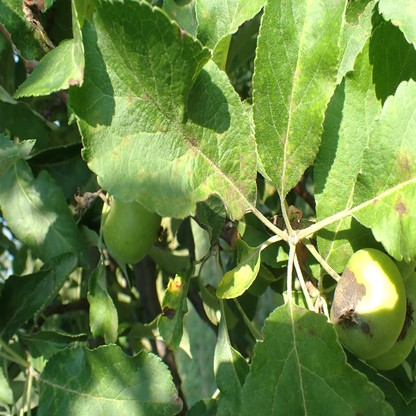frogeye_leaf_spot: (162, 305, 176, 320)
scab: (89, 93, 256, 215), (281, 70, 301, 184), (392, 147, 416, 183), (294, 305, 317, 335), (393, 194, 410, 217), (69, 65, 84, 86), (338, 247, 352, 257), (375, 176, 385, 184), (202, 12, 209, 20), (181, 28, 186, 39), (353, 411, 364, 416), (372, 196, 379, 203)
